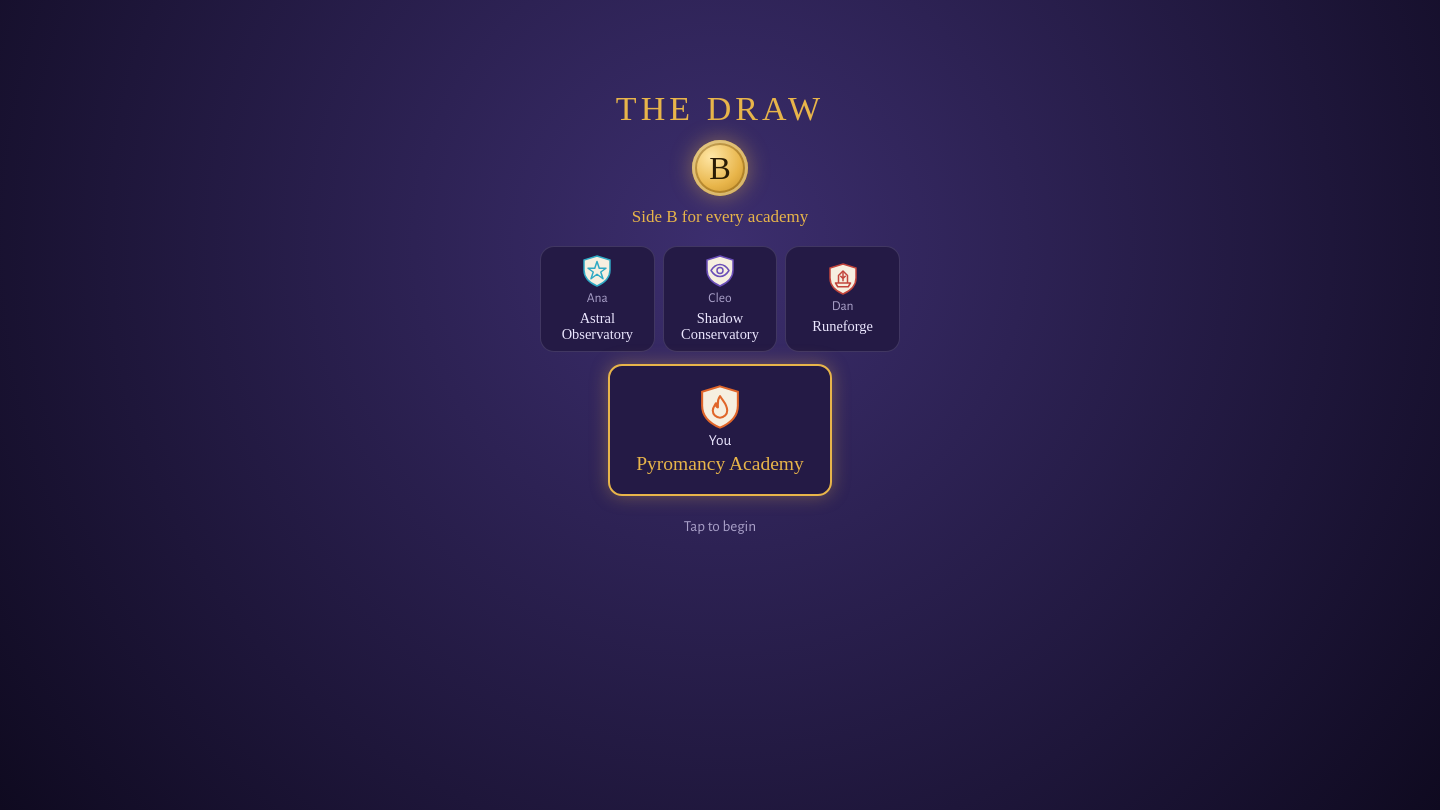
it: start-of-game draw › ends by itself after REVEAL_MS, or sooner on a tap
Click the dialog "The draw" at (86, 405), box top-left (0, 0), bottom-right (1439, 809)
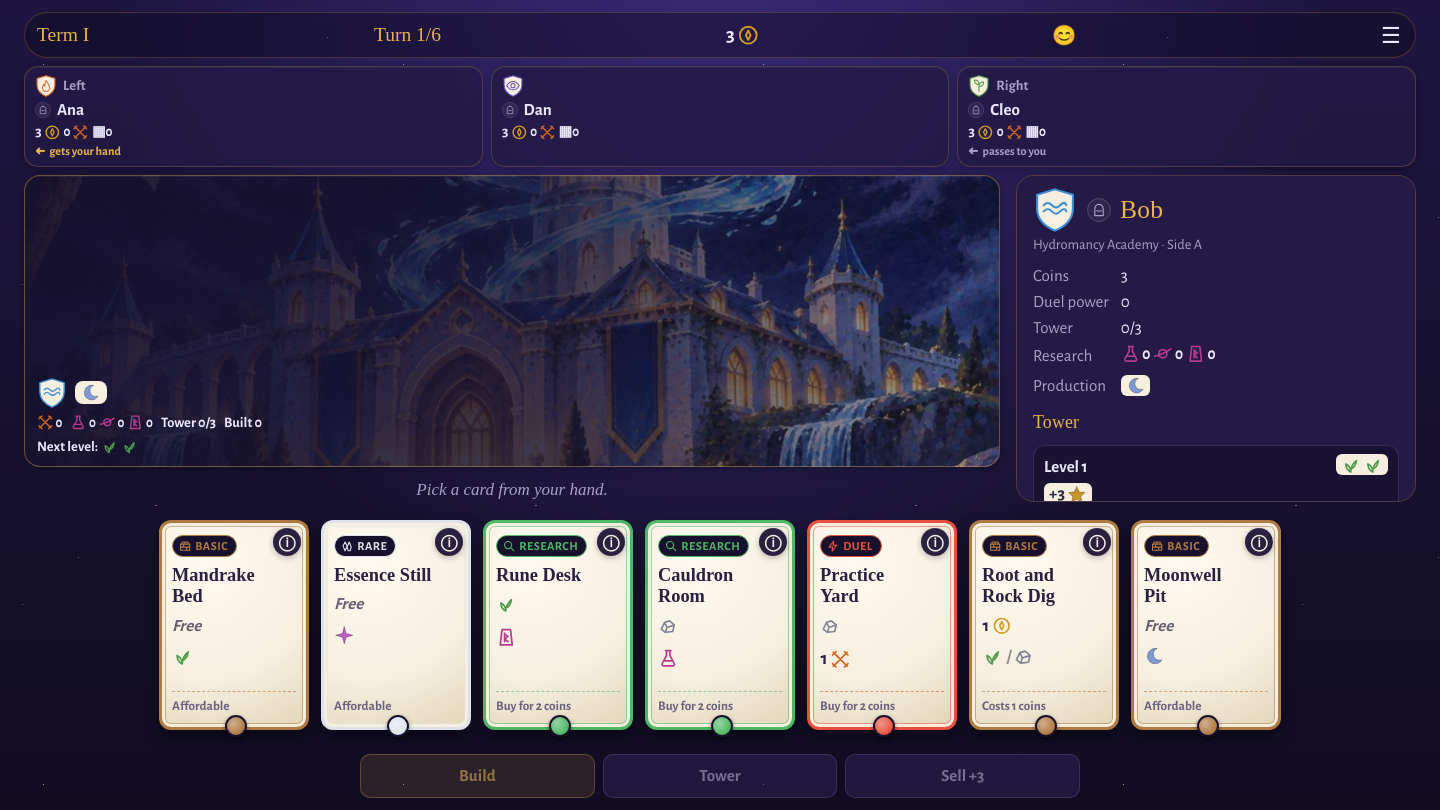
Expected: the heading "The draw" is gone
